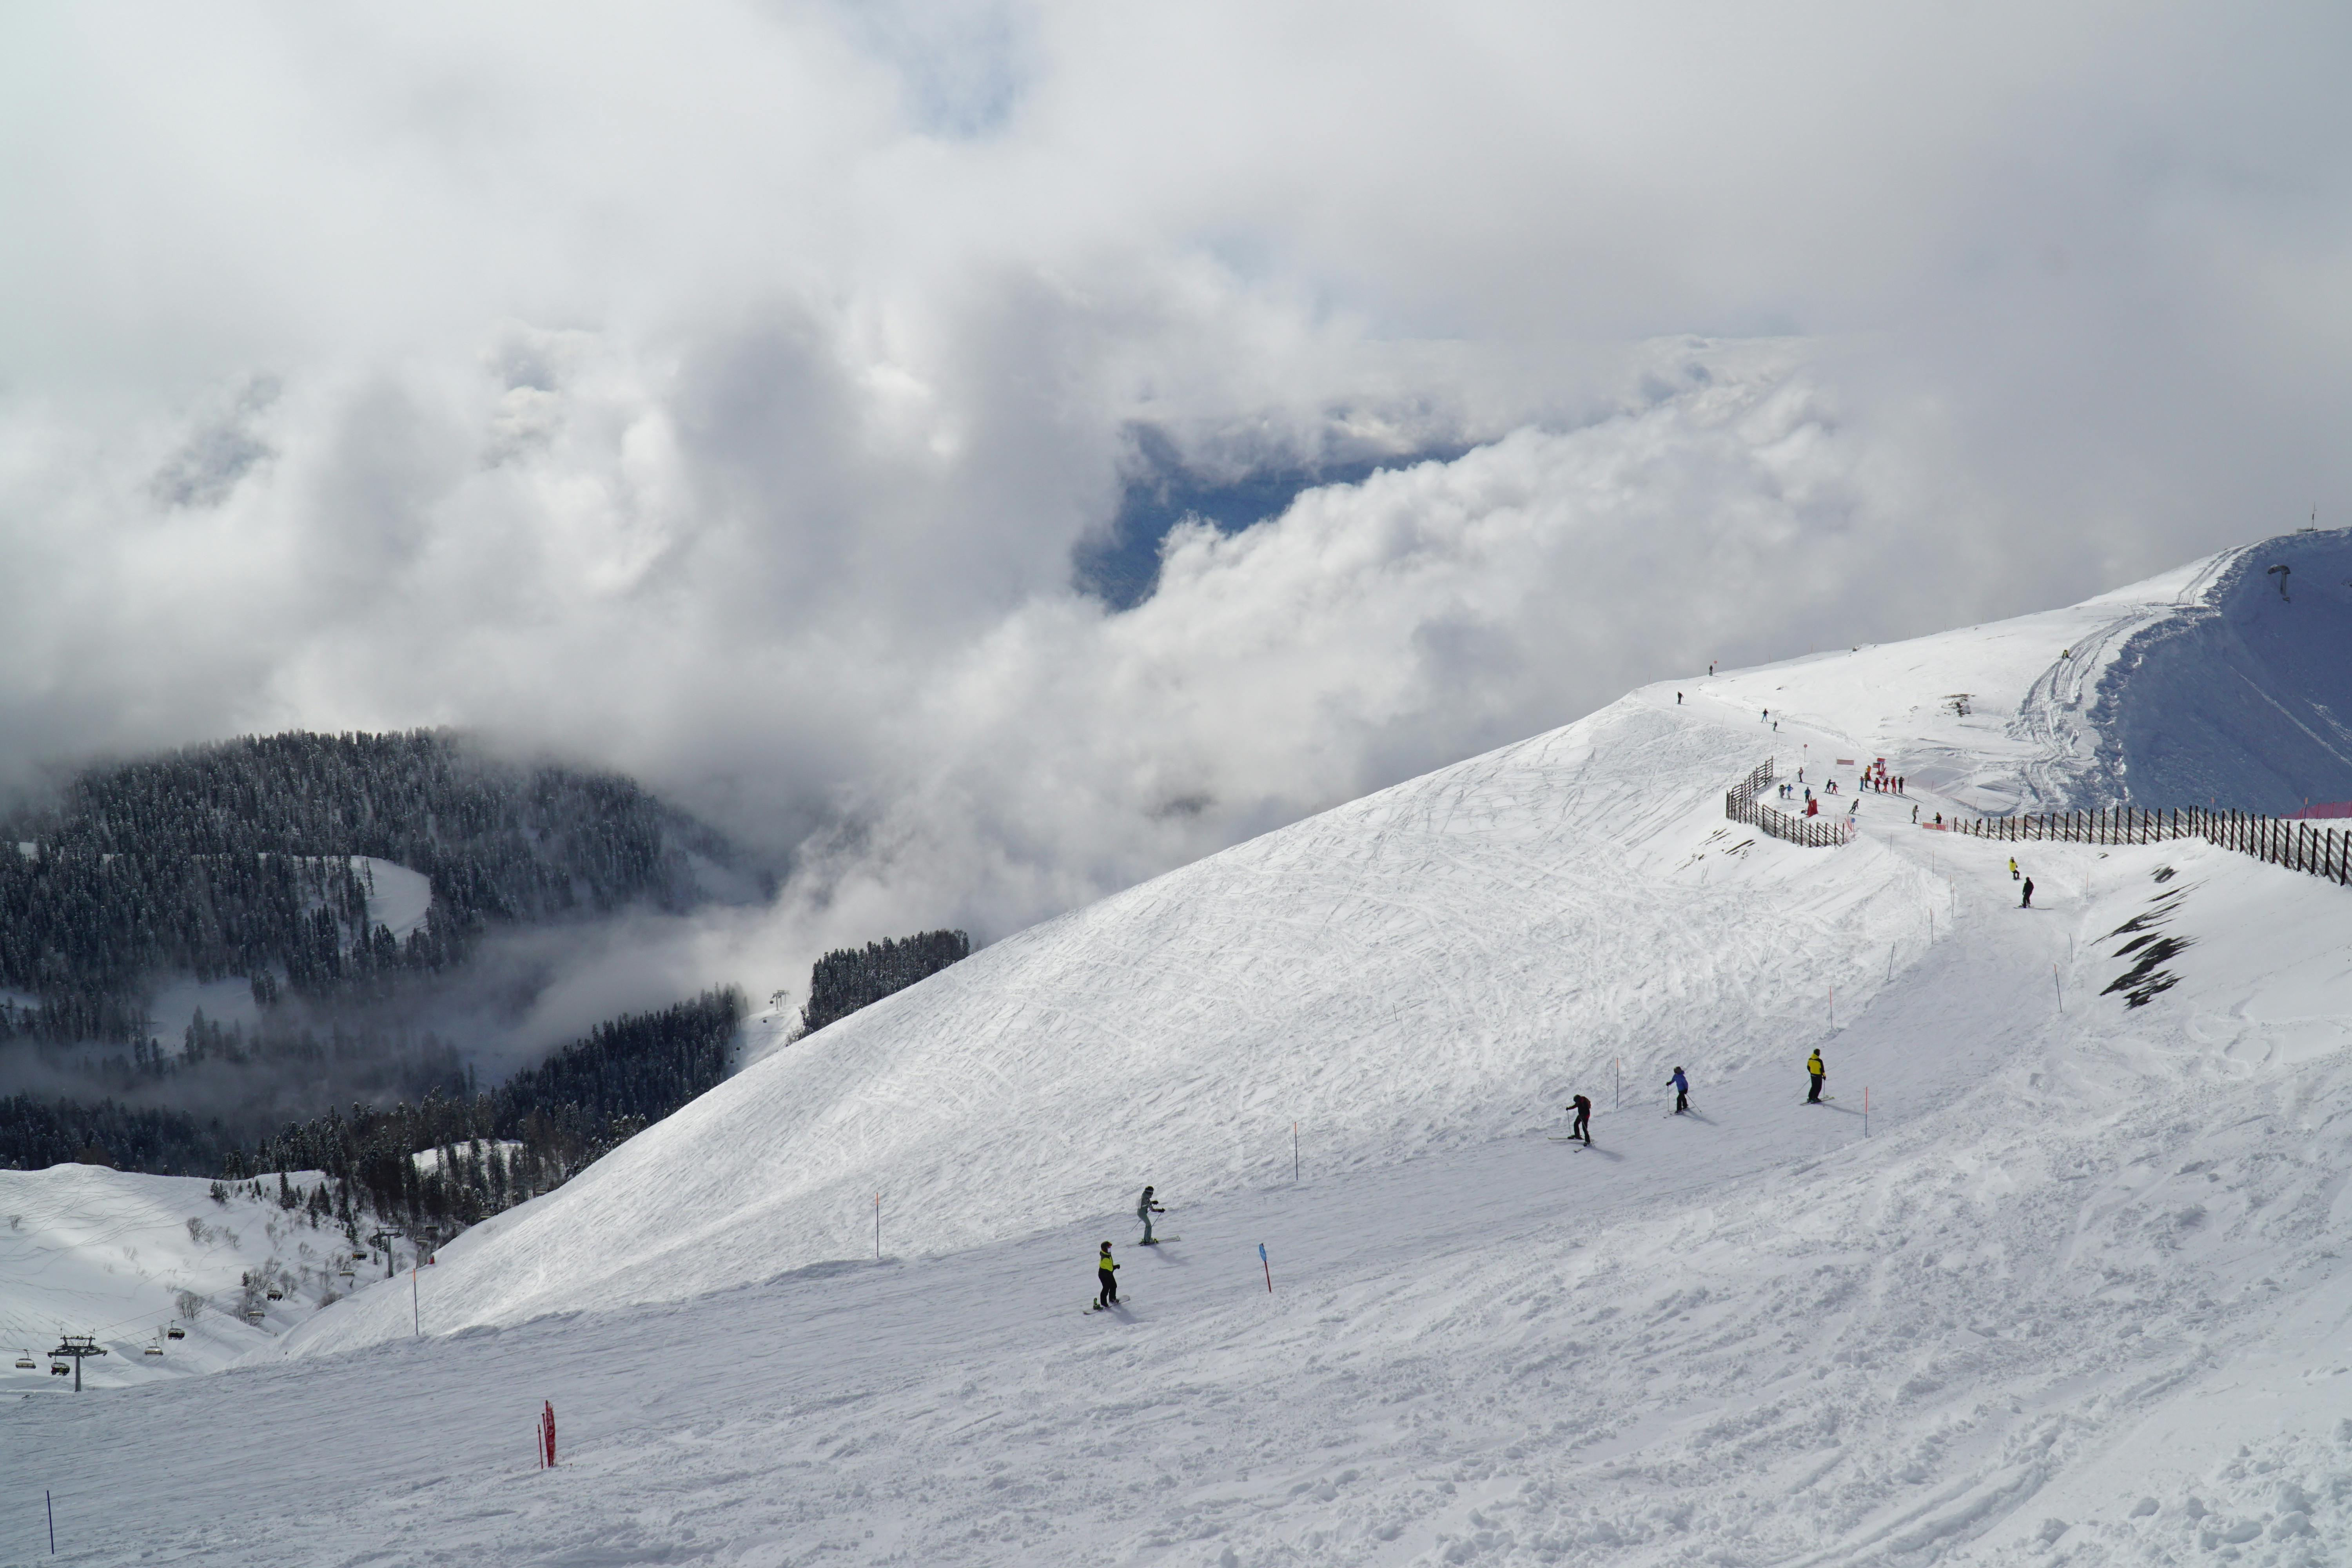skier: (1123, 1183, 1185, 1249), (1545, 1094, 1603, 1153), (1790, 1048, 1839, 1111), (1657, 1064, 1706, 1122), (1904, 805, 1925, 826)
snowboarder: (1078, 1239, 1132, 1316), (2013, 877, 2035, 908), (2009, 856, 2023, 880)
